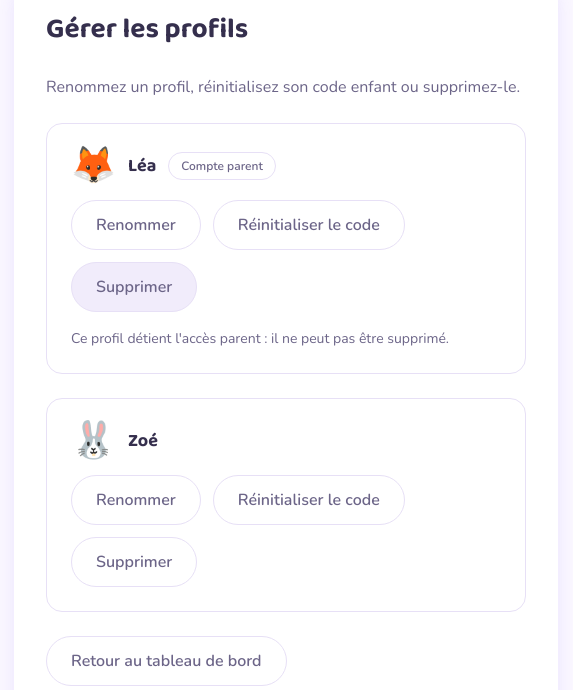
it: ProfileManager — renommer › succès → appelle renameProfileAction + feedback + refresh
This screenshot has width=573, height=690.
Click the button "Renommer" below "Zoé".
click(136, 500)  # box 71,475 -> 201,525
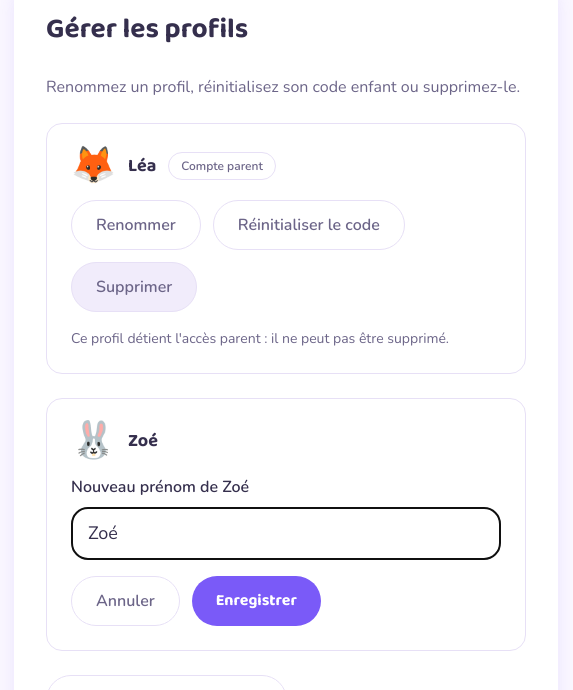
Replace the text in the field with "Zoélie" at [286, 534], box 71,507 -> 501,560
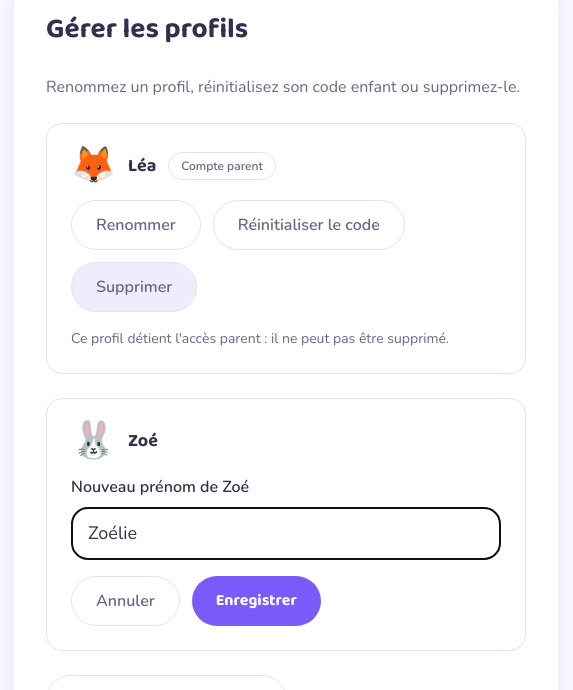
Click the button "Enregistrer".
click(256, 601)  # box 192,576 -> 321,626
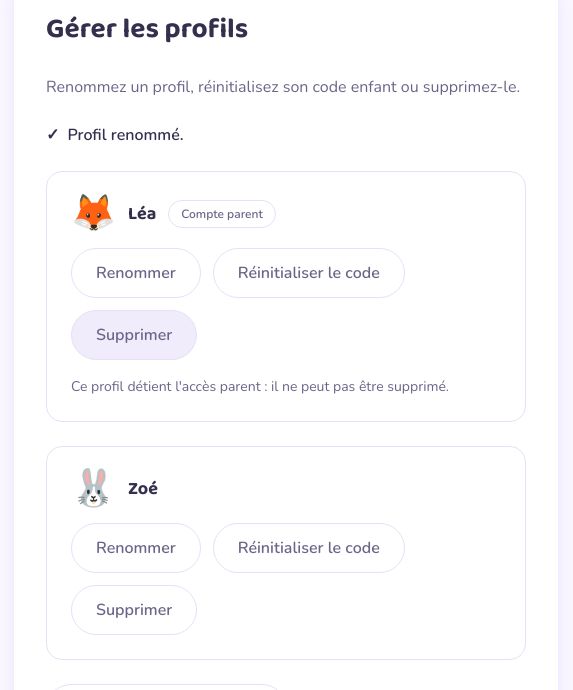
Expected: the text "Profil renommé." is shown, 67,124 -> 184,146
